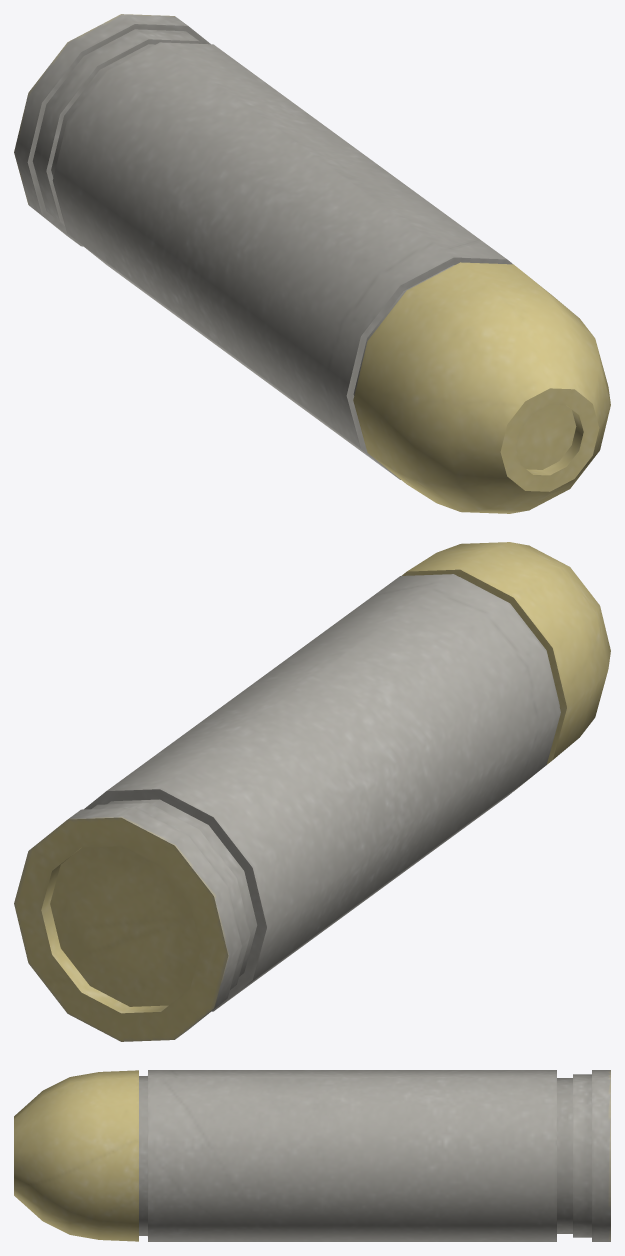
File: SCI-FI Revolver Bullet.fbx
3 views of the same model, one above another, from view 1: azimuth 30°, elevation 25°; view 2: azimuth 150°, elevation 25°; view 3: azimuth 270°, elevation 25° (orthographic). The views are drawn at different scales.
Parts seen in each view (by area): view 1: Cylinder.005; view 2: Cylinder.005; view 3: Cylinder.005.
Boxes of the visible parts, bbox=[...] form: Cylinder.005: bbox=[14, 14, 610, 513]; Cylinder.005: bbox=[14, 542, 610, 1041]; Cylinder.005: bbox=[14, 1070, 610, 1241].
Bounding box in the file's own units: 16.88 × 16.88 × 58.47.
1 material, 1 textured.
